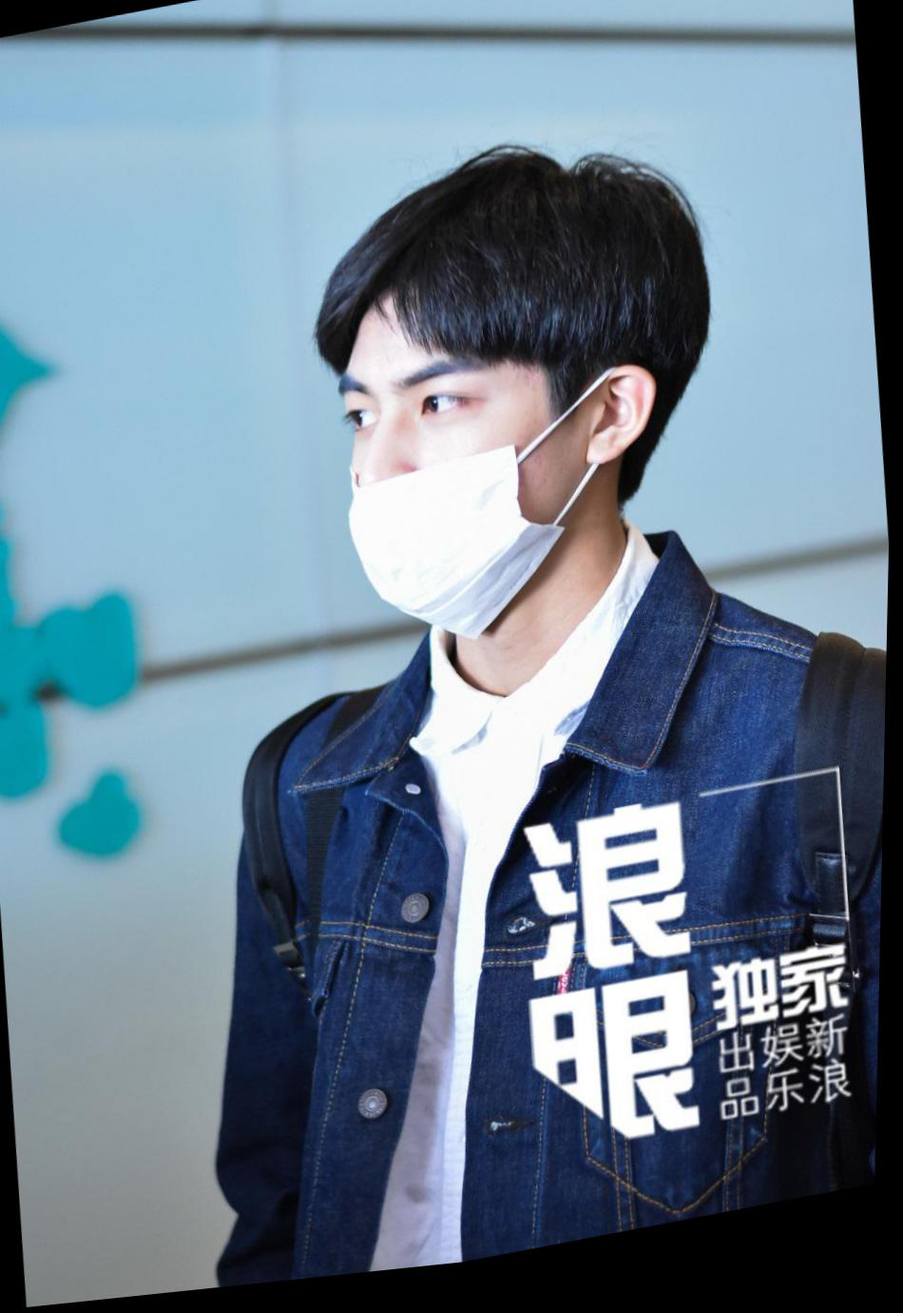WRONG: (331, 303, 590, 658)
